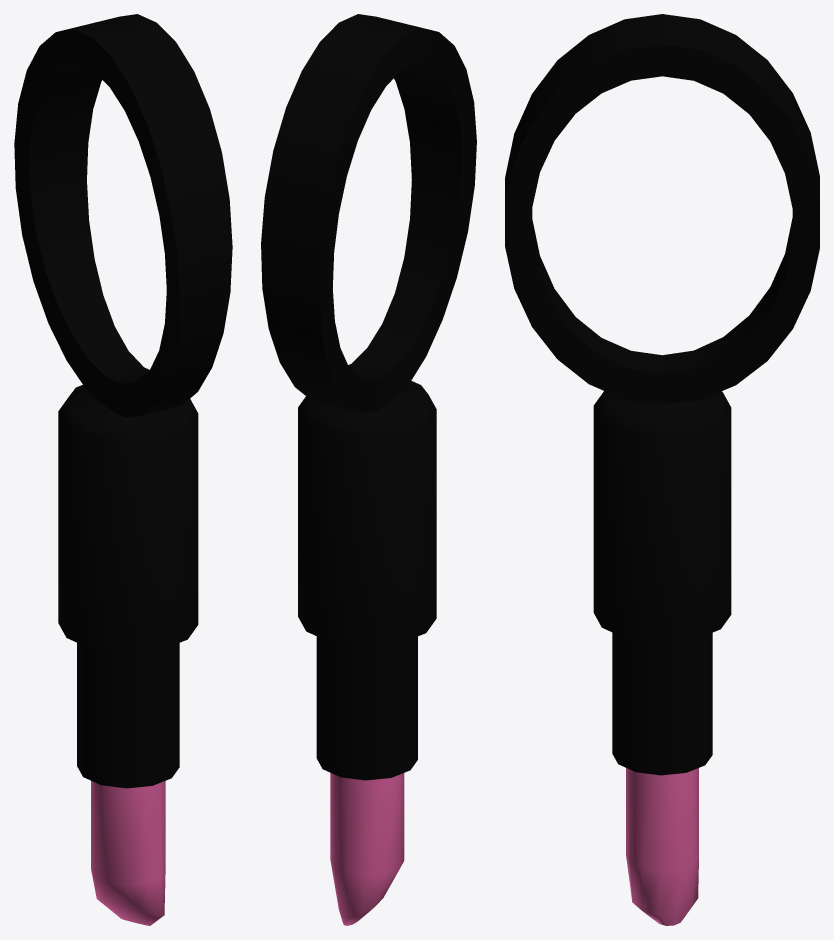
The model's file is Lipstick_Bead.fbx.
3 views of the same model, side by side, from view 1: azimuth 30°, elevation 25°; view 2: azimuth 150°, elevation 25°; view 3: azimuth 270°, elevation 25° (orthographic).
Visible parts, largest first — view 1: Lipstick1.003, Lipstick.003; view 2: Lipstick1.003, Lipstick.003; view 3: Lipstick1.003, Lipstick.003.
Part boxes in pixels (x1,y1,x2,y2): Lipstick1.003: (58,385,198,925); Lipstick.003: (14,14,232,417); Lipstick1.003: (298,381,436,925); Lipstick.003: (261,14,476,413); Lipstick1.003: (593,391,731,925); Lipstick.003: (505,14,819,402).
Size of the model in its own units: 9.05 by 64.37 by 20.74.
